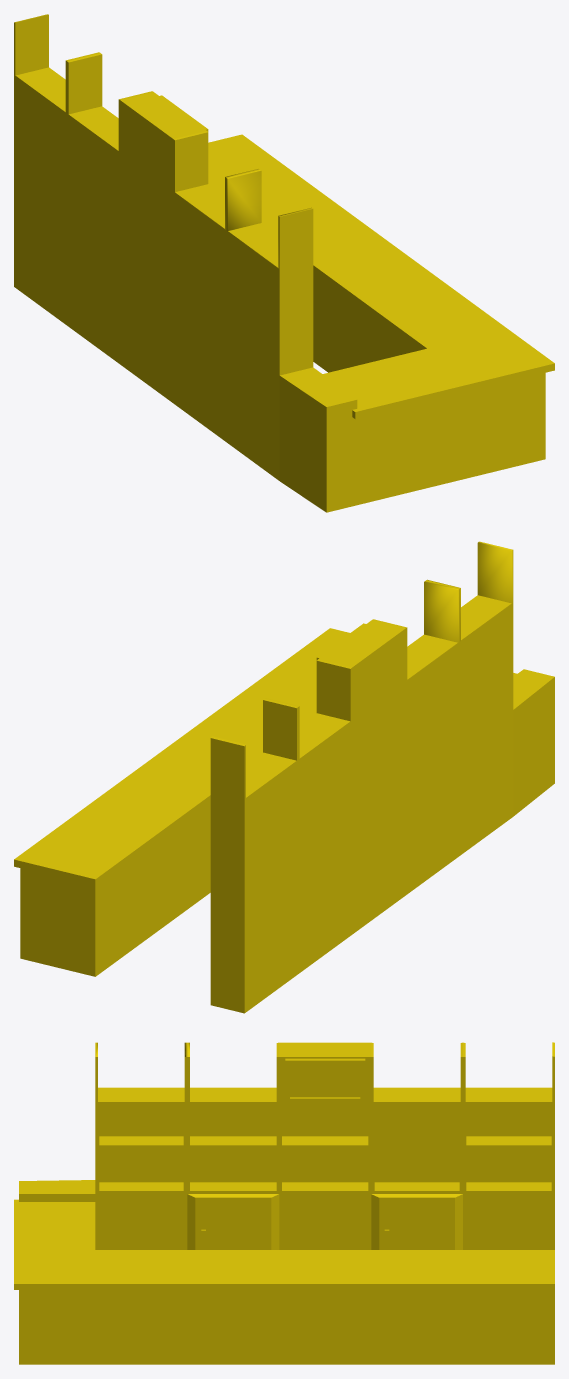
Rendered from S_Bar.fbx.
The picture shows the model from 3 angles, top to bottom: view 1: azimuth 30°, elevation 25°; view 2: azimuth 150°, elevation 25°; view 3: azimuth 270°, elevation 25°; orthographic projection. The views are drawn at different scales.
Parts seen in each view (by area): view 1: Bar.001; view 2: Bar.001; view 3: Bar.001.
Boxes of the visible parts, box(x1,y1,x2,y2) form: Bar.001: box(14, 14, 554, 512); Bar.001: box(14, 541, 554, 1013); Bar.001: box(14, 1042, 554, 1364).
Bounding box in the file's own units: 255 × 283 × 606.
